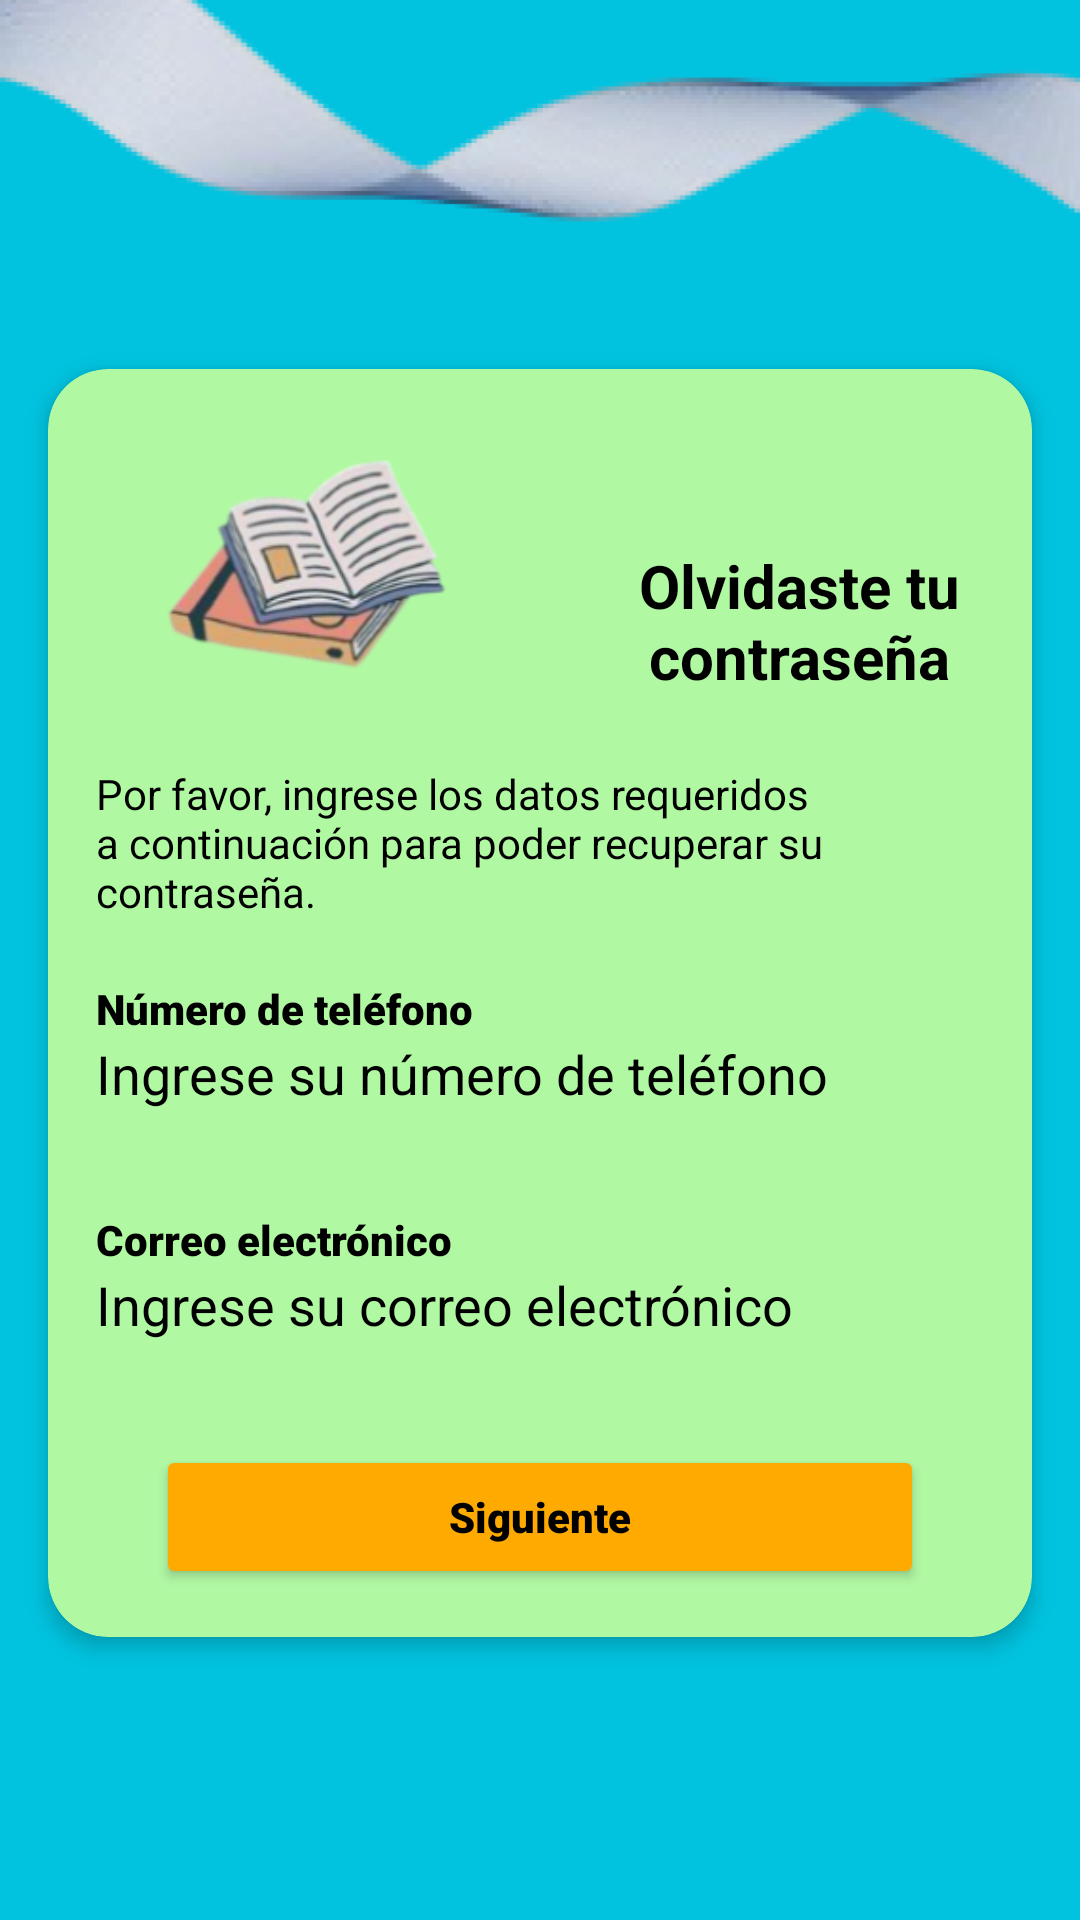

Icons on this 1080w x 1920h Android screen, each with its box as {"left": x1, "top": y1, "right": x2, "bottom": y2}:
libro: {"left": 169, "top": 461, "right": 445, "bottom": 667}
